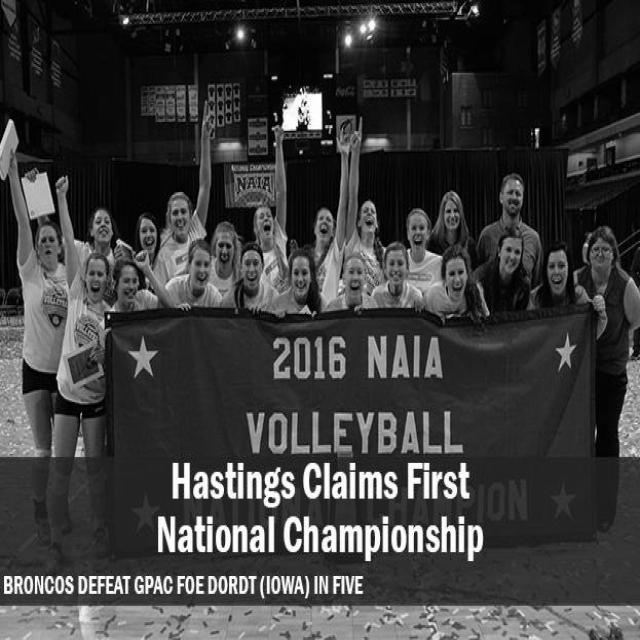person: (572, 227, 640, 452), (17, 212, 80, 452), (66, 243, 124, 455), (476, 171, 544, 287), (352, 123, 392, 291), (471, 234, 533, 318), (302, 182, 342, 308), (424, 250, 489, 326), (157, 193, 209, 284), (342, 201, 390, 292), (367, 245, 430, 312), (166, 242, 226, 310), (529, 242, 586, 310), (402, 209, 446, 297), (430, 190, 478, 268), (230, 251, 281, 316), (322, 258, 378, 316), (270, 258, 323, 319), (249, 207, 289, 287), (208, 216, 248, 283), (116, 252, 143, 322), (128, 212, 158, 258), (86, 199, 112, 246)
